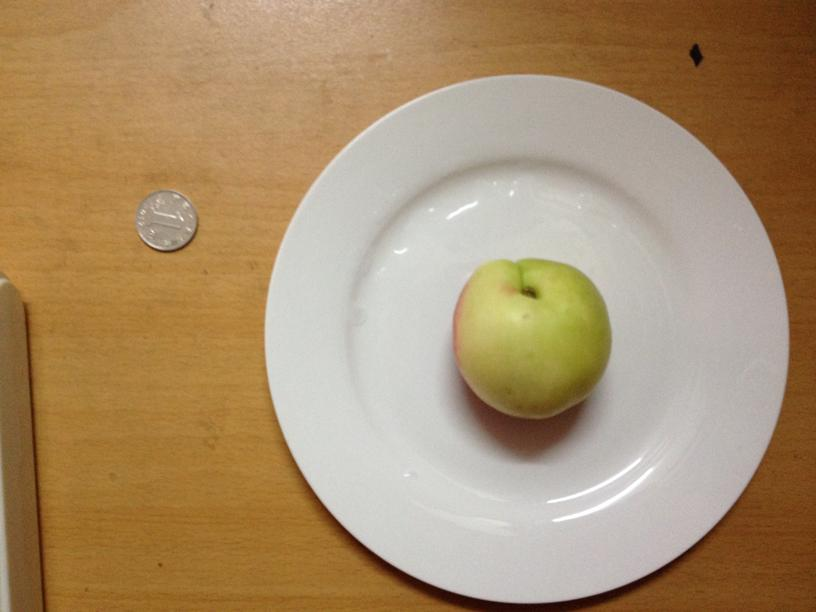coin: (132, 190, 200, 251)
peach: (451, 256, 608, 420)
